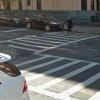Crosswalk: (19, 32, 99, 96)
